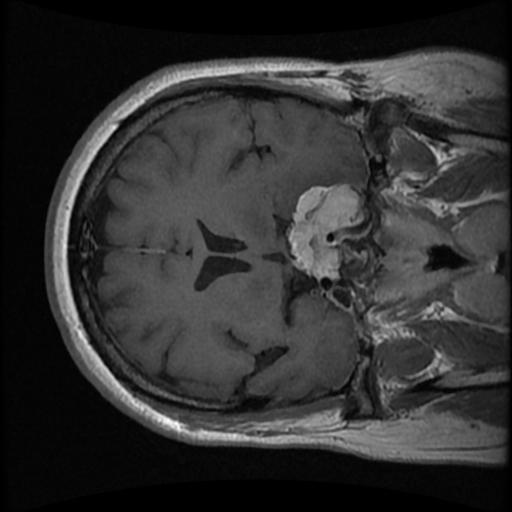meningioma: (286, 183, 366, 280)
